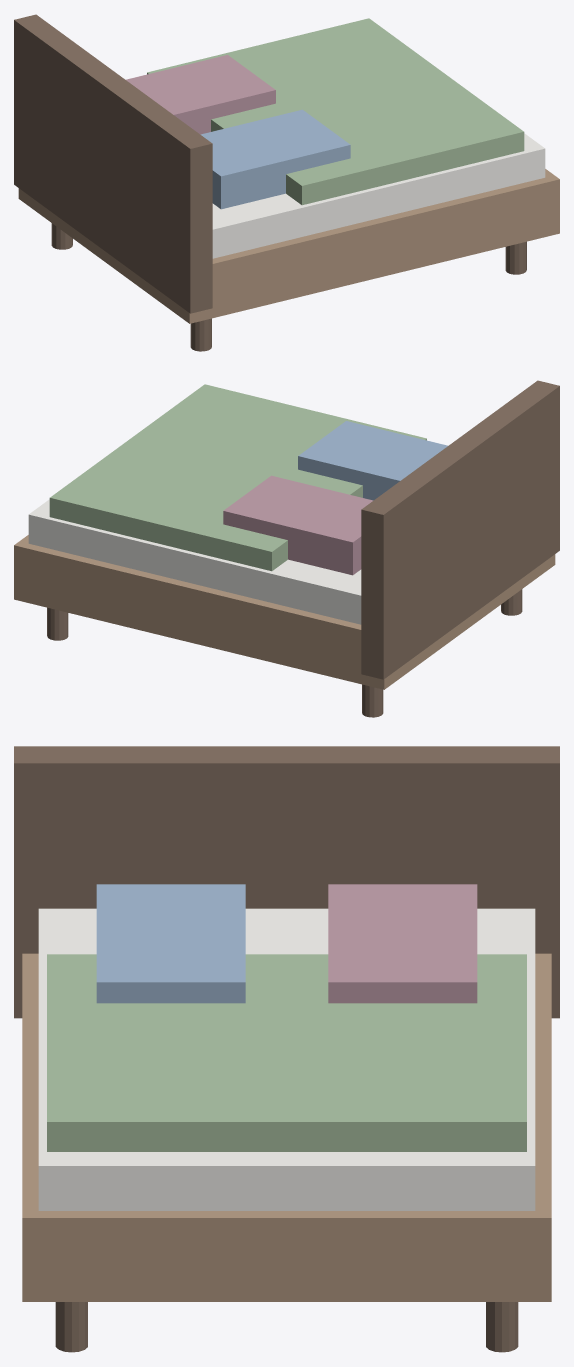
Rendered from bed_double.glb.
The picture shows the model from 3 angles, top to bottom: view 1: azimuth 30°, elevation 25°; view 2: azimuth 150°, elevation 25°; view 3: azimuth 270°, elevation 25°; orthographic projection. The views are drawn at different scales.
Parts seen in each view (by area): view 1: p002, p005, p000, p001, p003, p004, p006, p007; view 2: p002, p005, p000, p001, p004, p003, p008, p009; view 3: p002, p005, p000, p001, p003, p004, p007, p009.
Part boxes in pixels (x1,y1,x2,y2): p002: (14,14,212,313); p005: (147,18,524,205); p000: (18,169,559,323); p001: (212,133,545,258); p003: (200,109,350,209); p004: (126,55,275,134); p006: (190,318,211,351); p007: (505,241,526,274); p002: (361,380,559,679); p005: (49,384,426,571); p000: (14,535,555,689); p001: (28,499,361,624); p004: (223,475,373,575); p003: (298,421,447,500); p008: (362,684,383,717); p009: (47,607,68,640); p002: (14,746,559,1018); p005: (47,954,526,1151); p000: (22,953,551,1301); p001: (38,908,535,1210); p003: (96,884,245,1003); p004: (328,884,477,1003); p007: (55,1302,87,1352); p009: (486,1302,518,1352).
Size of the model in its own units: 2.01 by 1.13 by 1.65.
